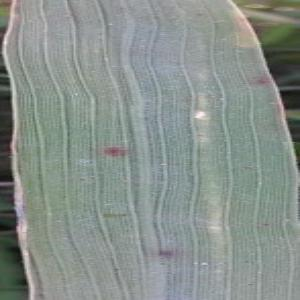Brown_Spot: (99, 140, 133, 163), (151, 244, 180, 263), (246, 70, 271, 89), (259, 220, 273, 230), (193, 9, 206, 19)
